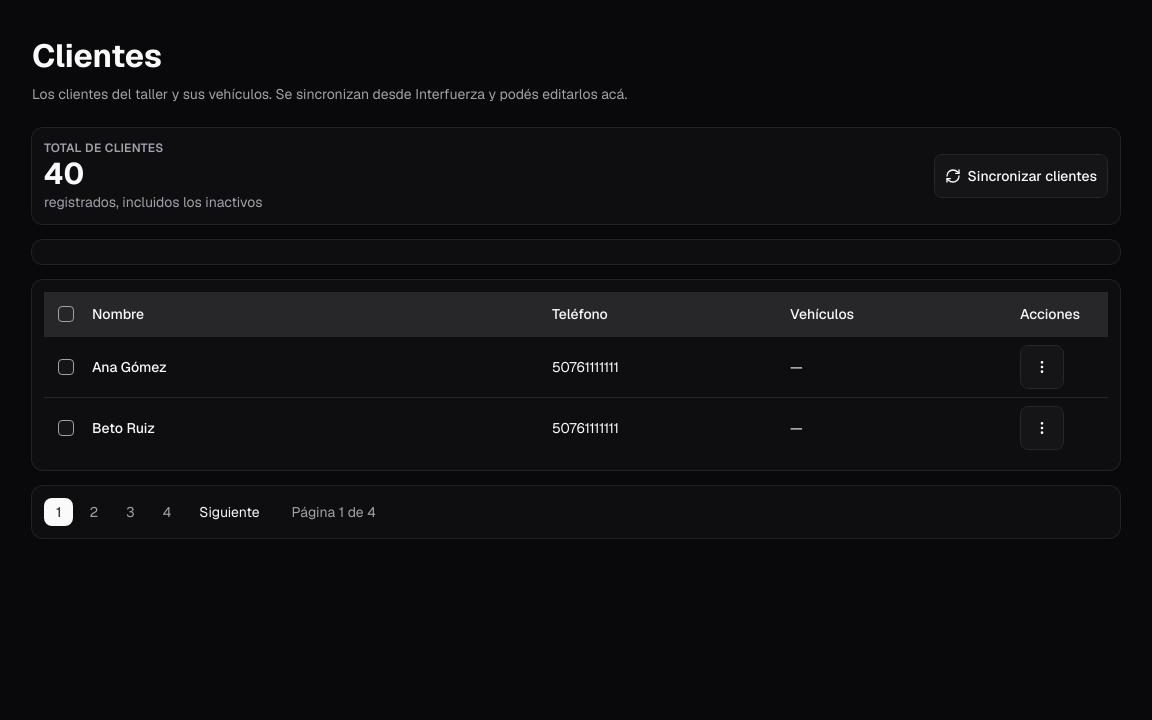
Test: CustomersPage — cross-page selection and the filter rule (WU4) › lets the operator drop the whole selection by hand, with no filter message
Step 1. Click the checkbox named "Seleccionar todo lo de esta página" → [66, 314], box left=58, top=306, right=74, bottom=322
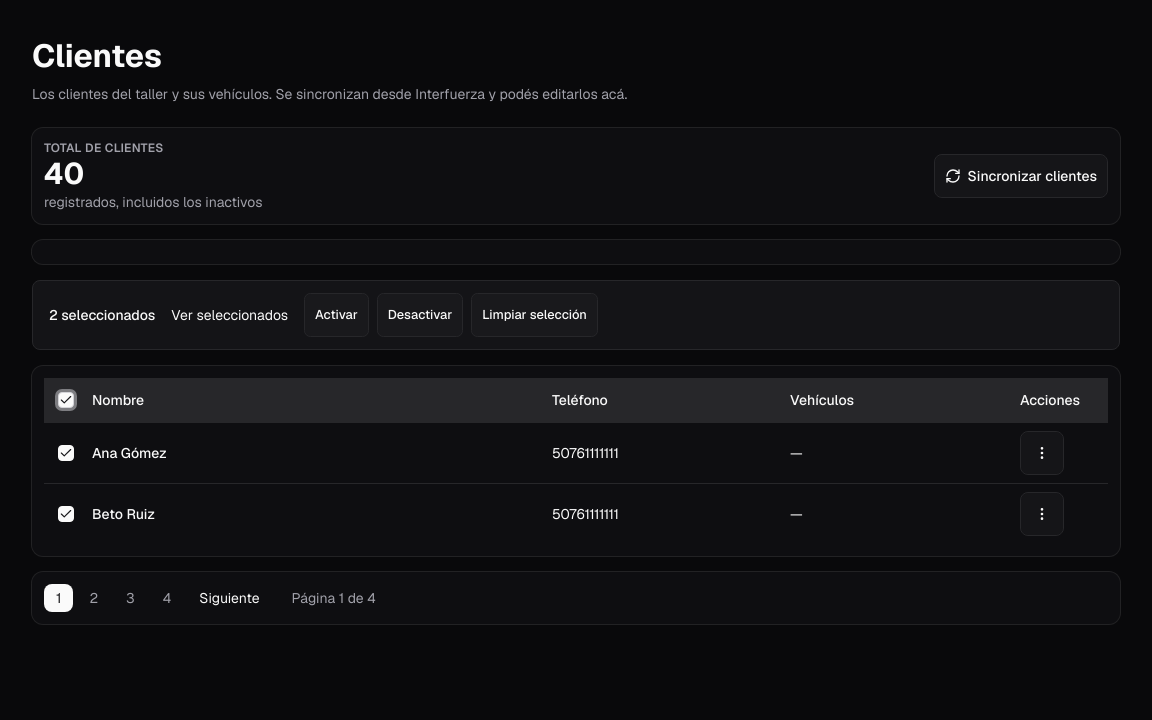
Expected: the message shows "2 seleccionados", left=32, top=280, right=1120, bottom=350
Step 2. Click the button "Limpiar selección" → [535, 315], box left=471, top=293, right=598, bottom=337
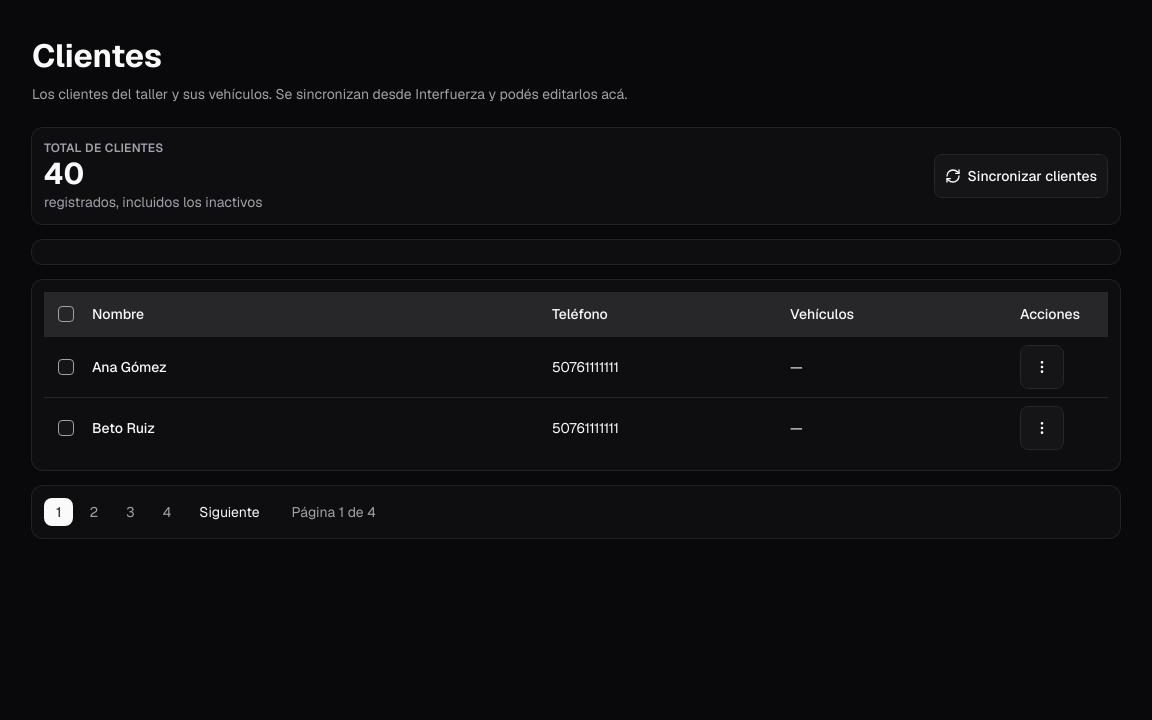
Expected: the message "2 seleccionados Ver seleccionados Activar Desactivar Limpiar selección" is gone
